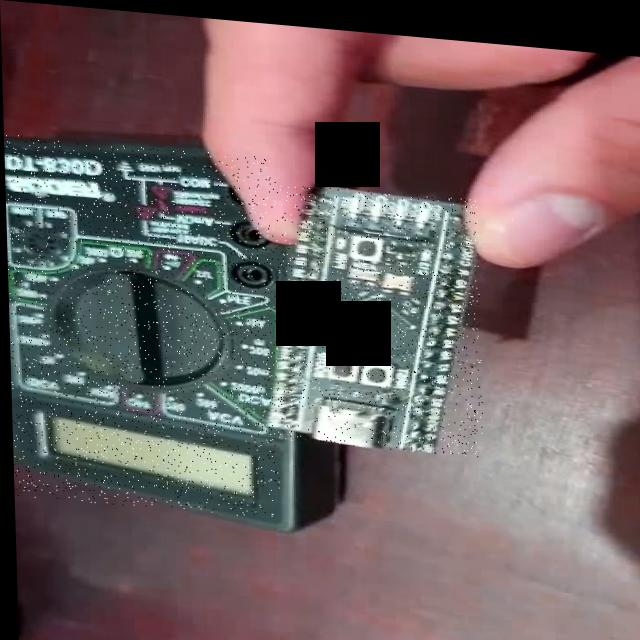multimeter: (3, 134, 278, 515)
stm32: (265, 176, 481, 449)
